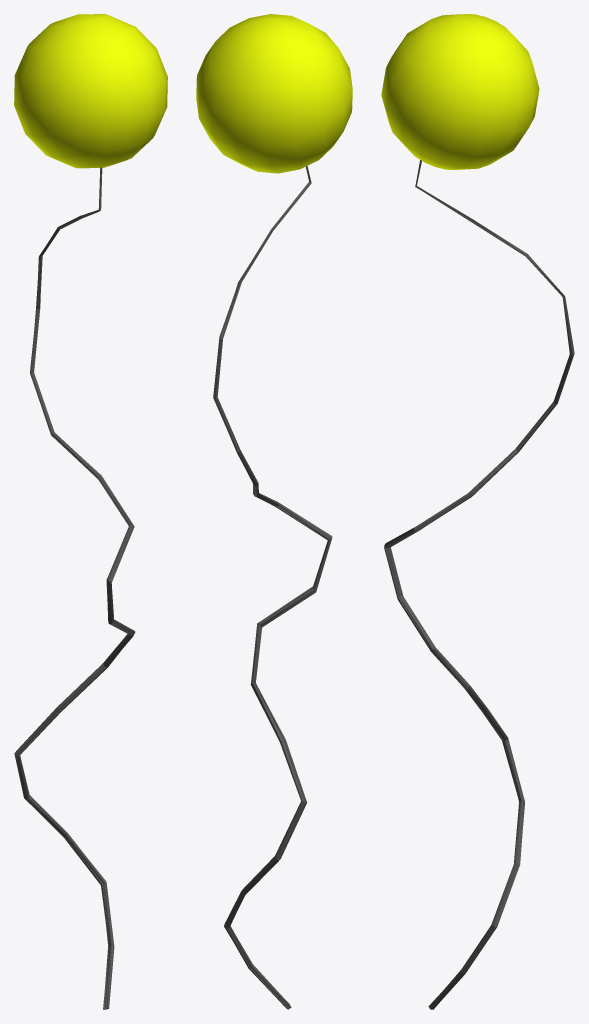
File: skinny Branch, big light from the floor.fbx
3 views of the same model, side by side, from view 1: azimuth 30°, elevation 25°; view 2: azimuth 150°, elevation 25°; view 3: azimuth 270°, elevation 25° (orthographic).
Visible parts, largest first — view 1: Sphere, Cylinder; view 2: Sphere, Cylinder; view 3: Sphere, Cylinder.
Part boxes in pixels (x1,y1,x2,y2): Sphere: (14,14,167,168); Cylinder: (14,167,135,1009); Sphere: (196,14,352,173); Cylinder: (213,166,332,1009); Sphere: (381,14,539,169); Cylinder: (384,160,574,1009).
Size of the model in its own units: 218 by 1499 by 266.
